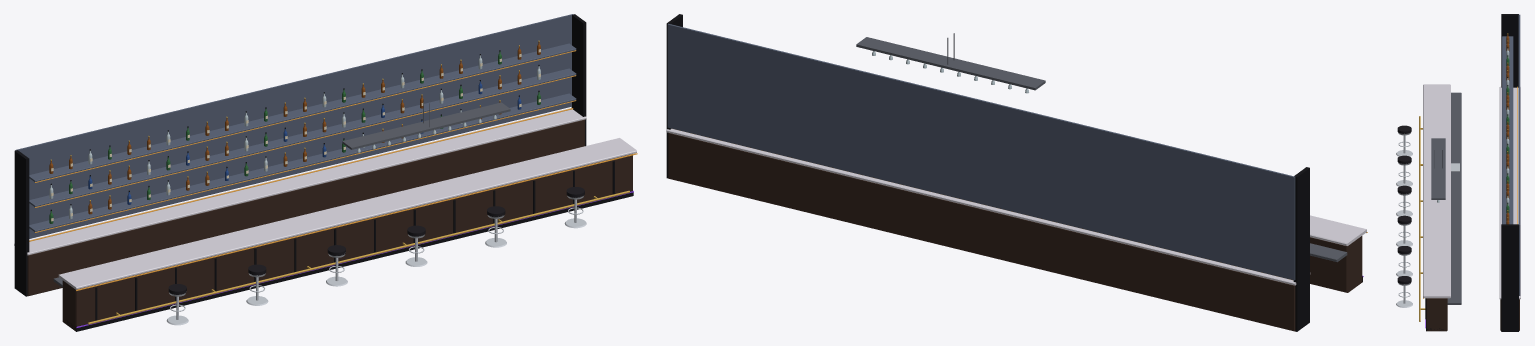
Rendered from bar.glb.
3 renders of one model, left to right at view 1: azimuth 30°, elevation 25°; view 2: azimuth 150°, elevation 25°; view 3: azimuth 270°, elevation 25°, orthographic. The views are drawn at different scales.
Visible parts, largest first — view 1: mirror30, wood0, wood28, marble17, marble29, mirror246, mirror139, mirror32, black1, black353, steel355, gold19 (+7 smaller); view 2: mirror30, wood28, marble29, black353, steel355, wood0, marble17; view 3: marble17, steel26, black354, mirror246, marble29, steel355, mirror30, black353, wood0, gold19, glowAmber31, leather384 (+6 smaller).
Part boxes in pixels (x1,y1,x2,y2): mirror30: [15, 14, 572, 238]; wood0: [62, 154, 632, 330]; wood28: [27, 119, 584, 296]; marble17: [58, 138, 636, 289]; marble29: [14, 108, 586, 255]; mirror246: [29, 43, 576, 181]; mirror139: [29, 68, 576, 206]; mirror32: [29, 93, 576, 231]; black1: [65, 191, 633, 331]; black353: [14, 150, 29, 296]; steel355: [342, 102, 510, 149]; gold19: [87, 190, 629, 324]; mirror30: [667, 23, 1295, 280]; wood28: [668, 132, 1295, 331]; marble29: [666, 128, 1310, 285]; black353: [1293, 167, 1309, 331]; steel355: [856, 37, 1045, 90]; wood0: [1310, 236, 1362, 292]; marble17: [1310, 215, 1366, 245]; marble17: [1423, 84, 1450, 298]; steel26: [1447, 92, 1461, 304]; black354: [1501, 224, 1518, 331]; mirror246: [1502, 36, 1513, 224]; marble29: [1499, 86, 1520, 299]; steel355: [1431, 138, 1445, 199]; mirror30: [1518, 14, 1520, 295]; black353: [1501, 14, 1518, 87]; wood0: [1426, 298, 1447, 331]; gold19: [1419, 116, 1420, 321]; glowAmber31: [1517, 86, 1517, 224]; leather384: [1397, 215, 1411, 224].
Size of the model in its own units: 14.1 by 3.3 by 3.51.
